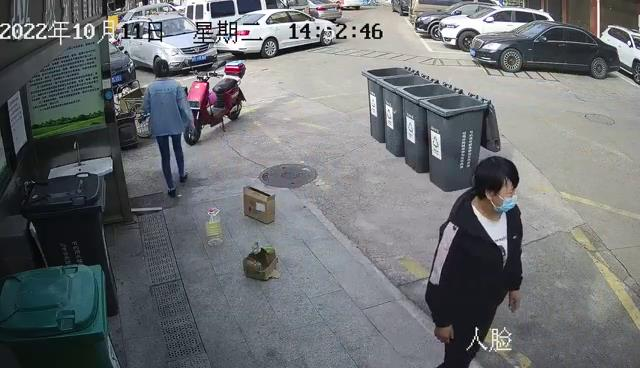person: (417, 153, 528, 368)
suliaozhipin: (202, 203, 226, 249)
worker: (134, 56, 199, 198)
zhizhipin: (241, 237, 284, 284), (240, 183, 279, 227)
